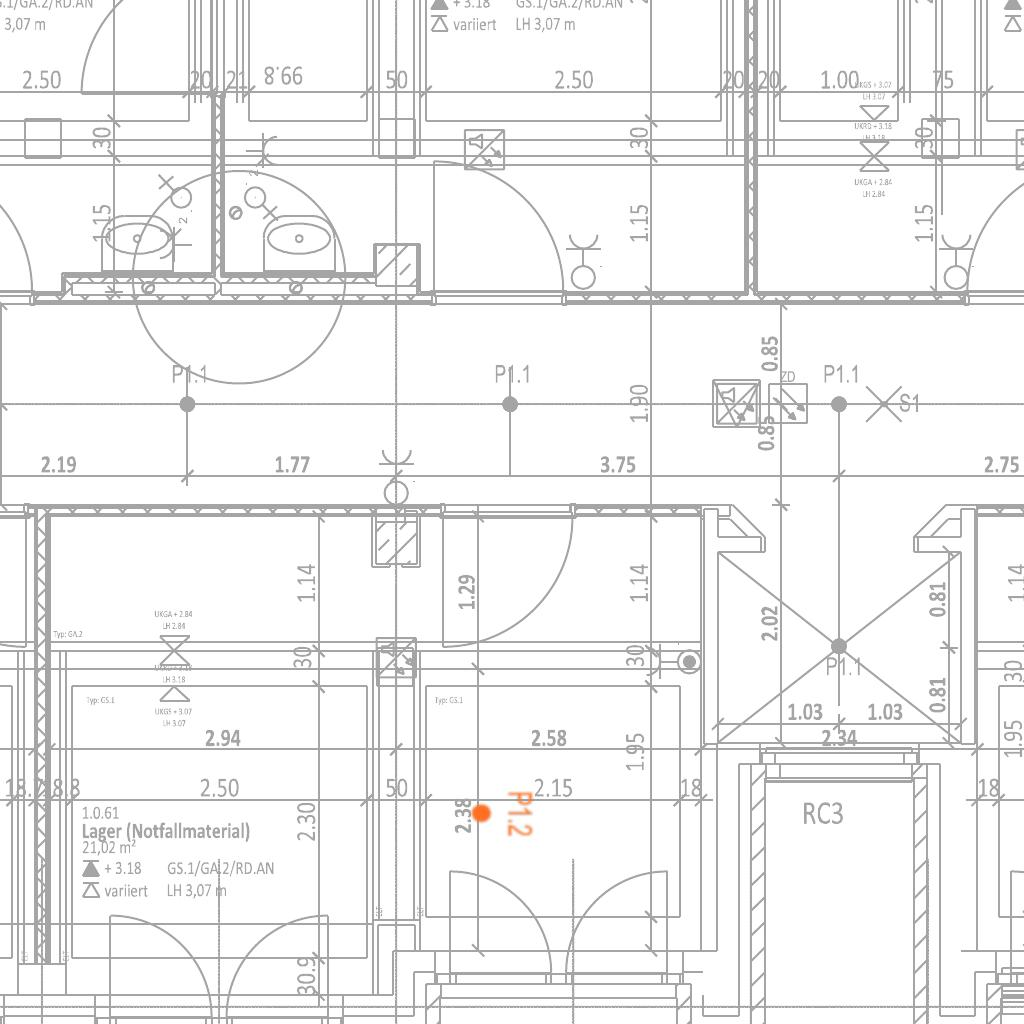Downlight_LED_Einbauleuchten_Flur: (470, 791, 534, 837)
